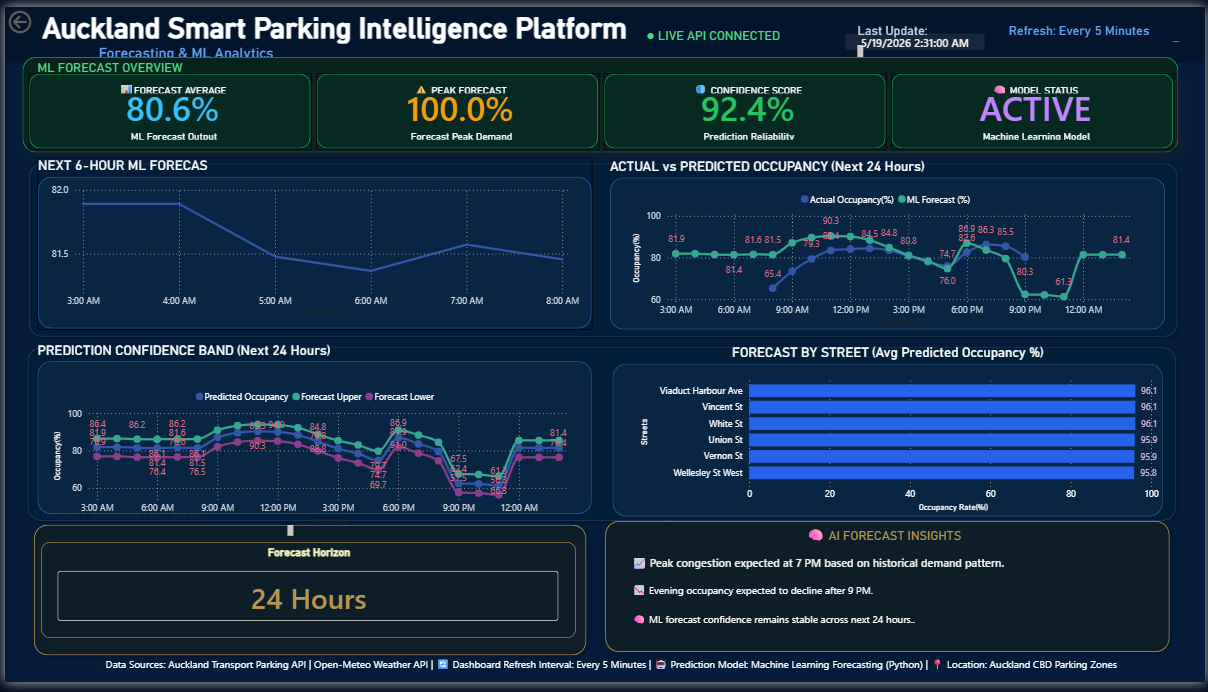

The dashboard page shown, as its layout file describes it:
{"tool":"powerbi","page":{"name":"Page 2-Forecasting & ML Analytics","canvas":[1600,900],"ordinal":1},"visuals":[{"type":"shape","box":[23.8,66.9,1541,127.2],"z":4000,"group":"g10"},{"type":"shape","box":[32,682.7,750.2,188],"z":4500},{"type":"cardVisual","title":"Forecast Horizon","fields":{"Data":["parking_powerbi_dashboard.Forecast Horizon"]},"box":[48,712.9,712.9,128],"z":4750},{"type":"shape","box":[0,0,1600,74.3],"z":5000},{"type":"textbox","title":"ML FORECAST OVERVIEW","box":[38,69.4,572.6,19.7],"z":5000,"group":"g10"},{"type":"textbox","box":[1.8,862.2,1598.2,39.1],"z":6000},{"type":"textbox","title":"● LIVE API CONNECTED","box":[850.1,26.3,299.7,49.1],"z":7000},{"type":"cardVisual","fields":{"Data":["Min(parking_powerbi_dashboard.last_updated)"]},"box":[1104,17.8,220.4,56.9],"z":8000},{"type":"textbox","title":"Auckland Smart Parking Intelligence Platform","box":[1.9,5.6,876,48.8],"z":9000},{"type":"textbox","title":"Forecasting & ML Analytics","box":[120.7,49.2,388.9,26.8],"z":10000},{"type":"textbox","title":"Last Update:","box":[1132.3,21,164.8,26.3],"z":11000},{"type":"textbox","title":"Refresh: Every 5 Minutes","box":[1333.9,21,236.6,29.8],"z":12000},{"type":"actionButton","box":[0,0,100,40],"z":13000},{"type":"shape","box":[25.3,201.2,1545.2,245],"z":14000},{"type":"textbox","title":"FORCAST SUMMARY(All Street)","box":[32.8,666,356.1,43.2],"z":15000},{"type":"group","id":"g1","title":"Group 12","box":[42.7,199.5,740,230],"z":16000},{"type":"textbox","title":"🧠 AI FORCAST INSIGHTS","box":[755.8,679.1,434.9,7.6],"z":17000},{"type":"group","id":"g2","title":"Group 3","box":[23.8,66.9,1541.7,126.2],"z":18000},{"type":"group","id":"g3","title":"Group 4","box":[806.5,201.4,740,230],"z":19000},{"type":"cardVisual","fields":{"Data":["parking_powerbi_dashboard.AI Availability Insight"]},"box":[1000,631,534.5,55.2],"z":20000},{"type":"group","id":"g4","title":"Group 10","box":[32.3,88.1,379.3,102.4],"z":21000},{"type":"group","id":"g5","title":"Group 10","box":[414.6,88,379.3,102.4],"z":22000},{"type":"group","id":"g6","title":"Group 10","box":[798.8,88,379.3,102.4],"z":23000},{"type":"shape","title":"NEXT 6-HOUR ML FORECAS","box":[42.7,199.5,740,230],"z":23000,"group":"g13"},{"type":"group","id":"g7","title":"Group 10","box":[1181.9,88,379.3,102.4],"z":24000},{"type":"group","id":"g8","title":"Group 11","box":[806.5,201.4,740,228.6],"z":24000,"group":"g3"},{"type":"lineChart","title":"NEXT 6-HOUR ML FORECAST","fields":{"Y":["Avg(parking_powerbi_dashboard.predicted_occupancy_rate)"],"Category":["parking_powerbi_dashboard.timestamp"]},"box":[55.8,229,713.7,189.9],"z":24000,"group":"g13"},{"type":"group","id":"g9","title":"Group 11","box":[42.6,446.6,739,229.5],"z":24000,"group":"g11"},{"type":"shape","box":[23.1,446.2,1544.9,245.3],"z":25000},{"type":"group","id":"g10","title":"Group 1","box":[23.8,66.9,1541.7,126.2],"z":26000,"group":"g2"},{"type":"shape","title":"ACTUAL vs PREDICTED OCCUPANCY (Next 24 Hours)","box":[806.5,201.4,740,228.6],"z":26000,"group":"g8"},{"type":"group","id":"g11","title":"Group 4","box":[42.6,446.6,739,249.1],"z":26000},{"type":"shape","title":"PREDICTION CONFIDENCE BAND (Next 24 Hours)","box":[42.6,446.6,739,229.5],"z":26000,"group":"g9"},{"type":"lineChart","fields":{"Category":["parking_powerbi_dashboard.timestamp"],"Y":["parking_powerbi_dashboard.Actual Occupancy by Hour (%)","Avg(parking_powerbi_dashboard.predicted_occupancy_rate)"]},"box":[832.1,236.6,688.9,194.8],"z":27000,"group":"g3"},{"type":"group","id":"g12","title":"Group 10","box":[810.8,450,740,230],"z":27000},{"type":"lineChart","fields":{"Category":["parking_powerbi_dashboard.timestamp"],"Y":["Avg(parking_powerbi_dashboard.predicted_occupancy_rate)","Avg(parking_powerbi_dashboard.forecast_upper)","Avg(parking_powerbi_dashboard.forecast_lower)"]},"box":[58.8,500.1,710,195.6],"z":27000,"group":"g11"},{"type":"shape","box":[414.6,88,377.9,102.4],"z":28000,"group":"g5"},{"type":"shape","box":[798.8,88,377.9,102.4],"z":28000,"group":"g6"},{"type":"shape","box":[1181.9,88,377.9,102.4],"z":28000,"group":"g7"},{"type":"shape","box":[32.3,88.1,377.9,102.4],"z":28000,"group":"g4"},{"type":"shape","title":"FORECAST BY STREET (Avg Predicted Occupancy %)","box":[810.8,450,733.8,229.4],"z":28000,"group":"g12"},{"type":"shape","box":[792.9,679.1,766.2,188.4],"z":28000},{"type":"clusteredBarChart","fields":{"Category":["parking_powerbi_dashboard.street"],"Y":["Avg(parking_powerbi_dashboard.predicted_occupancy_rate)"]},"box":[841.9,482.1,710.1,196.2],"z":29000,"group":"g12"},{"type":"cardVisual","fields":{"Data":["parking_powerbi_dashboard.AI Peak Congestion Insight"]},"box":[807.1,709.3,680.9,58.7],"z":29000},{"type":"textbox","title":"🧠 AI FORECAST INSIGHTS","box":[801.8,689.8,739.6,23.1],"z":30000},{"type":"cardVisual","title":"Current Occupancy","fields":{"Data":["parking_powerbi_dashboard.Peak Forecast (%)"]},"box":[421.2,92.4,371.9,78.9],"z":31000,"group":"g5"},{"type":"cardVisual","title":"Current Occupancy","fields":{"Data":["parking_powerbi_dashboard.Confidence Score (%)"]},"box":[805.4,92.4,371.9,78.9],"z":31000,"group":"g6"},{"type":"cardVisual","title":"Current Occupancy","fields":{"Data":["parking_powerbi_dashboard.Model Status"]},"box":[1188.5,92.4,371.9,78.9],"z":31000,"group":"g7"},{"type":"cardVisual","title":"Current Occupancy","fields":{"Data":["parking_powerbi_dashboard.Forecast Average (%)"]},"box":[38.9,92.5,371.9,78.9],"z":31000,"group":"g4"},{"type":"textbox","box":[832,762.7,515.6,39.1],"z":31000},{"type":"textbox","box":[832,801.8,515.6,39.1],"z":32000},{"type":"group","id":"g13","title":"Group 5","box":[42.7,199.5,740,230],"z":32003,"group":"g1"},{"type":"textbox","title":"Forecast Peak Demand","box":[423.3,164.6,370.5,11.8],"z":34000,"group":"g5"},{"type":"textbox","title":"Prediction Reliability","box":[807.5,164.6,370.5,11.8],"z":34000,"group":"g6"},{"type":"textbox","title":"Machine Learning Model","box":[1190.6,164.6,370.5,11.8],"z":34000,"group":"g7"},{"type":"textbox","title":"ML Forecast Output","box":[41,164.7,370.5,11.8],"z":34000,"group":"g4"},{"type":"textbox","title":"⚠️ PEAK FORECAST","box":[421.2,99.1,370.5,15.1],"z":38000,"group":"g5"},{"type":"textbox","title":"🛡️ CONFIDENCE SCORE","box":[805.4,99.1,370.5,15.1],"z":38000,"group":"g6"},{"type":"textbox","title":"🧠 MODEL STATUS","box":[1188.5,99.1,370.5,15.1],"z":38000,"group":"g7"},{"type":"textbox","title":"📊FORECAST AVERAGE","box":[38.9,99.2,370.5,15.1],"z":38000,"group":"g4"}]}

Visuals, with their boxes in screenshot pixels (x1, y1, x2, y2), scaled from the page's 1600x900 canvas onto the 1208x692 screenshot:
shape: bbox=(18, 51, 1181, 149)
shape: bbox=(24, 525, 591, 669)
"Forecast Horizon" cardVisual: bbox=(36, 548, 574, 647)
shape: bbox=(0, 0, 1207, 57)
"ML FORECAST OVERVIEW" textbox: bbox=(29, 53, 461, 69)
textbox: bbox=(1, 663, 1207, 691)
"● LIVE API CONNECTED" textbox: bbox=(642, 20, 868, 58)
cardVisual - Min(parking_powerbi_dashboard.last_updated): bbox=(834, 14, 1000, 57)
"Auckland Smart Parking Intelligence Platform" textbox: bbox=(1, 4, 663, 42)
"Forecasting & ML Analytics" textbox: bbox=(91, 38, 385, 58)
"Last Update:" textbox: bbox=(855, 16, 979, 36)
"Refresh: Every 5 Minutes" textbox: bbox=(1007, 16, 1186, 39)
actionButton: bbox=(0, 0, 76, 31)
shape: bbox=(19, 155, 1186, 343)
"FORCAST SUMMARY(All Street)" textbox: bbox=(25, 512, 294, 545)
"Group 12" group: bbox=(32, 153, 591, 330)
"🧠 AI FORCAST INSIGHTS" textbox: bbox=(571, 522, 899, 528)
"Group 3" group: bbox=(18, 51, 1182, 148)
"Group 4" group: bbox=(609, 155, 1168, 332)
cardVisual - parking_powerbi_dashboard.AI Availability Insight: bbox=(755, 485, 1159, 528)
"Group 10" group: bbox=(24, 68, 311, 146)
"Group 10" group: bbox=(313, 68, 599, 146)
"Group 10" group: bbox=(603, 68, 889, 146)
"NEXT 6-HOUR ML FORECAS" shape: bbox=(32, 153, 591, 330)
"Group 10" group: bbox=(892, 68, 1179, 146)
"Group 11" group: bbox=(609, 155, 1168, 331)
"NEXT 6-HOUR ML FORECAST" lineChart: bbox=(42, 176, 581, 322)
"Group 11" group: bbox=(32, 343, 590, 520)
shape: bbox=(17, 343, 1184, 532)
"Group 1" group: bbox=(18, 51, 1182, 148)
"ACTUAL vs PREDICTED OCCUPANCY (Next 24 Hours)" shape: bbox=(609, 155, 1168, 331)
"Group 4" group: bbox=(32, 343, 590, 535)
"PREDICTION CONFIDENCE BAND (Next 24 Hours)" shape: bbox=(32, 343, 590, 520)
lineChart - parking_powerbi_dashboard.timestamp x parking_powerbi_dashboard.Actual Occupancy by Hour (%): bbox=(628, 182, 1148, 332)
"Group 10" group: bbox=(612, 346, 1171, 523)
lineChart - parking_powerbi_dashboard.timestamp x Avg(parking_powerbi_dashboard.predicted_occupancy_rate): bbox=(44, 385, 580, 535)
shape: bbox=(313, 68, 598, 146)
shape: bbox=(603, 68, 888, 146)
shape: bbox=(892, 68, 1178, 146)
shape: bbox=(24, 68, 310, 146)
"FORECAST BY STREET (Avg Predicted Occupancy %)" shape: bbox=(612, 346, 1166, 522)
shape: bbox=(599, 522, 1177, 667)
clusteredBarChart - parking_powerbi_dashboard.street x Avg(parking_powerbi_dashboard.predicted_occupancy_rate): bbox=(636, 371, 1172, 522)
cardVisual - parking_powerbi_dashboard.AI Peak Congestion Insight: bbox=(609, 545, 1123, 591)
"🧠 AI FORECAST INSIGHTS" textbox: bbox=(605, 530, 1164, 548)
"Current Occupancy" cardVisual: bbox=(318, 71, 599, 132)
"Current Occupancy" cardVisual: bbox=(608, 71, 889, 132)
"Current Occupancy" cardVisual: bbox=(897, 71, 1178, 132)
"Current Occupancy" cardVisual: bbox=(29, 71, 310, 132)
textbox: bbox=(628, 586, 1017, 616)
textbox: bbox=(628, 616, 1017, 647)
"Group 5" group: bbox=(32, 153, 591, 330)
"Forecast Peak Demand" textbox: bbox=(320, 127, 599, 136)
"Prediction Reliability" textbox: bbox=(610, 127, 889, 136)
"Machine Learning Model" textbox: bbox=(899, 127, 1179, 136)
"ML Forecast Output" textbox: bbox=(31, 127, 311, 136)
"⚠️ PEAK FORECAST" textbox: bbox=(318, 76, 598, 88)
"🛡️ CONFIDENCE SCORE" textbox: bbox=(608, 76, 888, 88)
"🧠 MODEL STATUS" textbox: bbox=(897, 76, 1177, 88)
"📊FORECAST AVERAGE" textbox: bbox=(29, 76, 309, 88)
